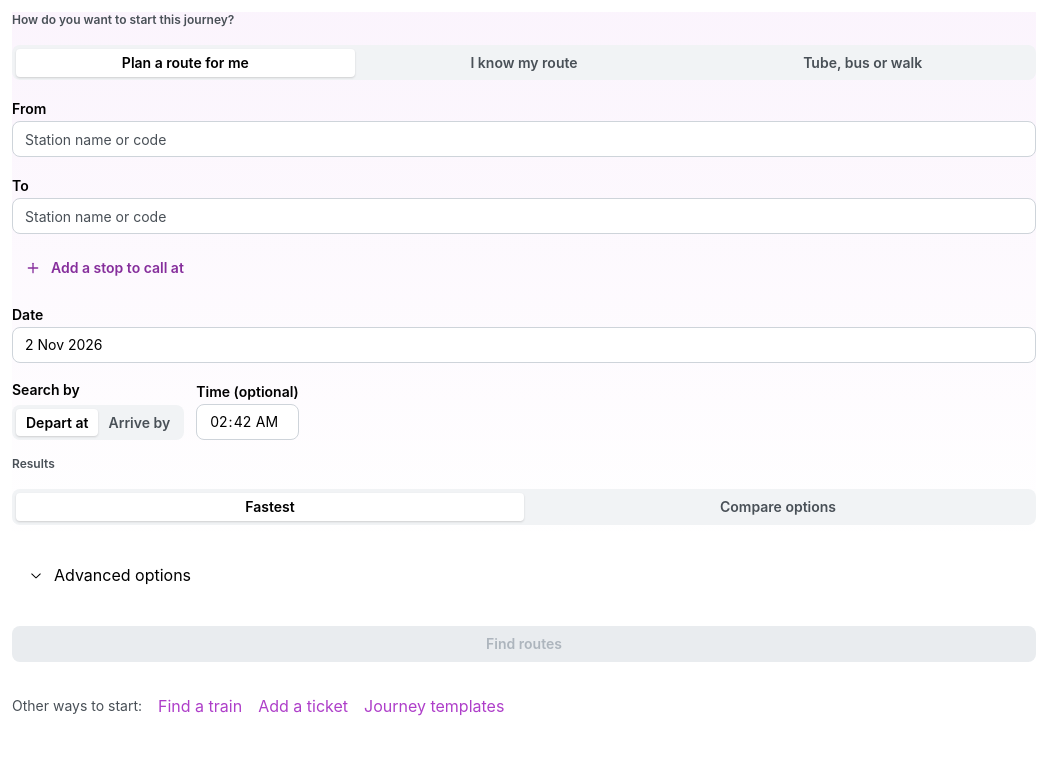
Scenario: JourneyCreationFlow › the option it opens on › still switches option after opening on the planner
Click the text "I know my route" at (524,62), box [470,54,578,71]
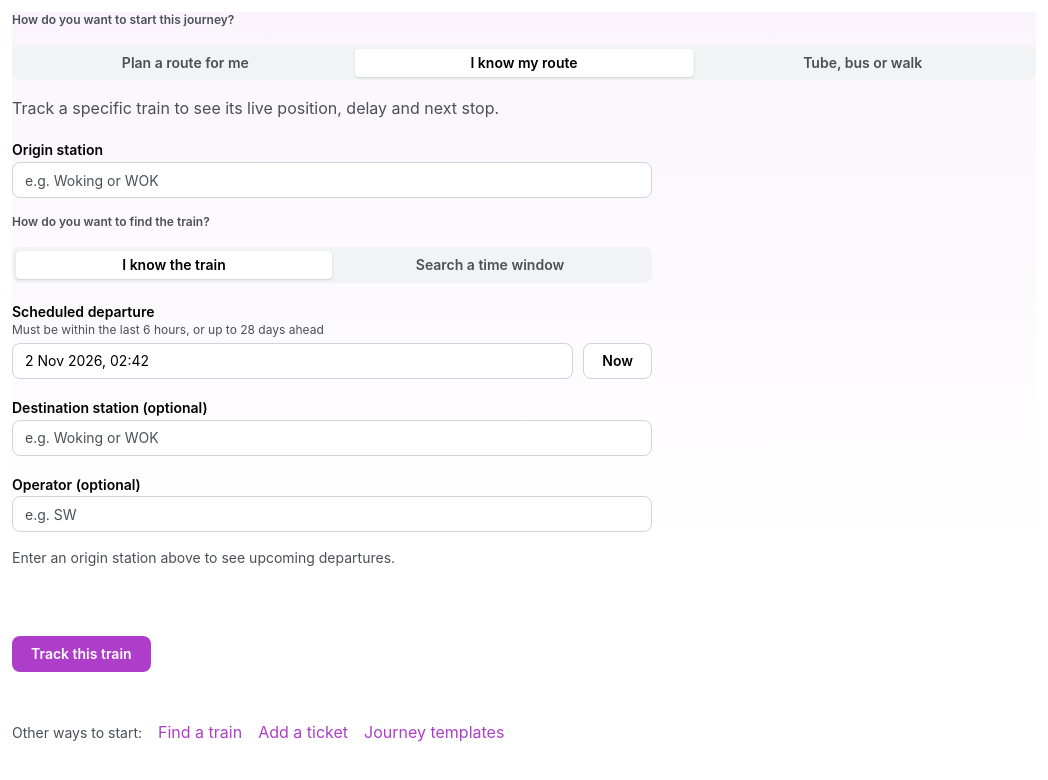
Expected: the button "Track this train" is shown, [12,636,151,672]
